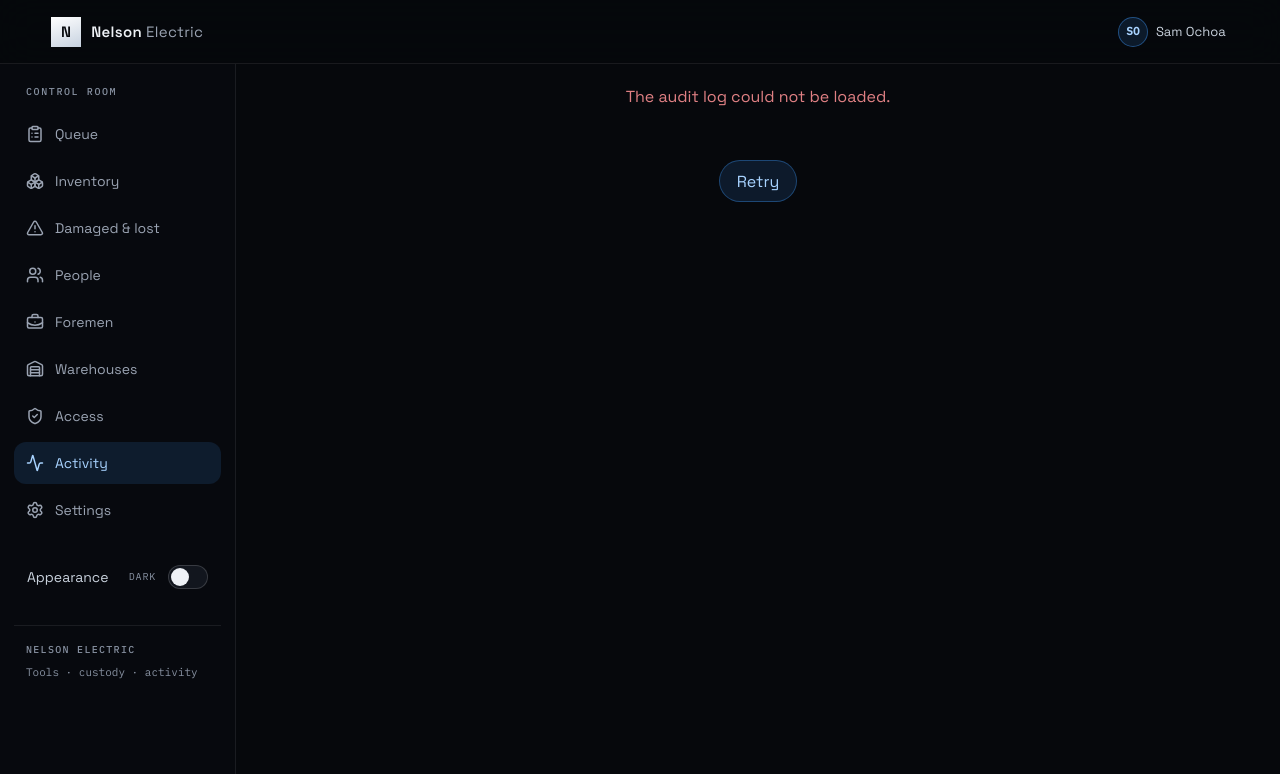
Test: admin activity surface › fails closed with retry when the audit query is unavailable
Expected: the message shows "audit log could not be loaded", [626,86,890,107]
Click the button "Retry". click: [758, 181]
box: [719,160,797,202]
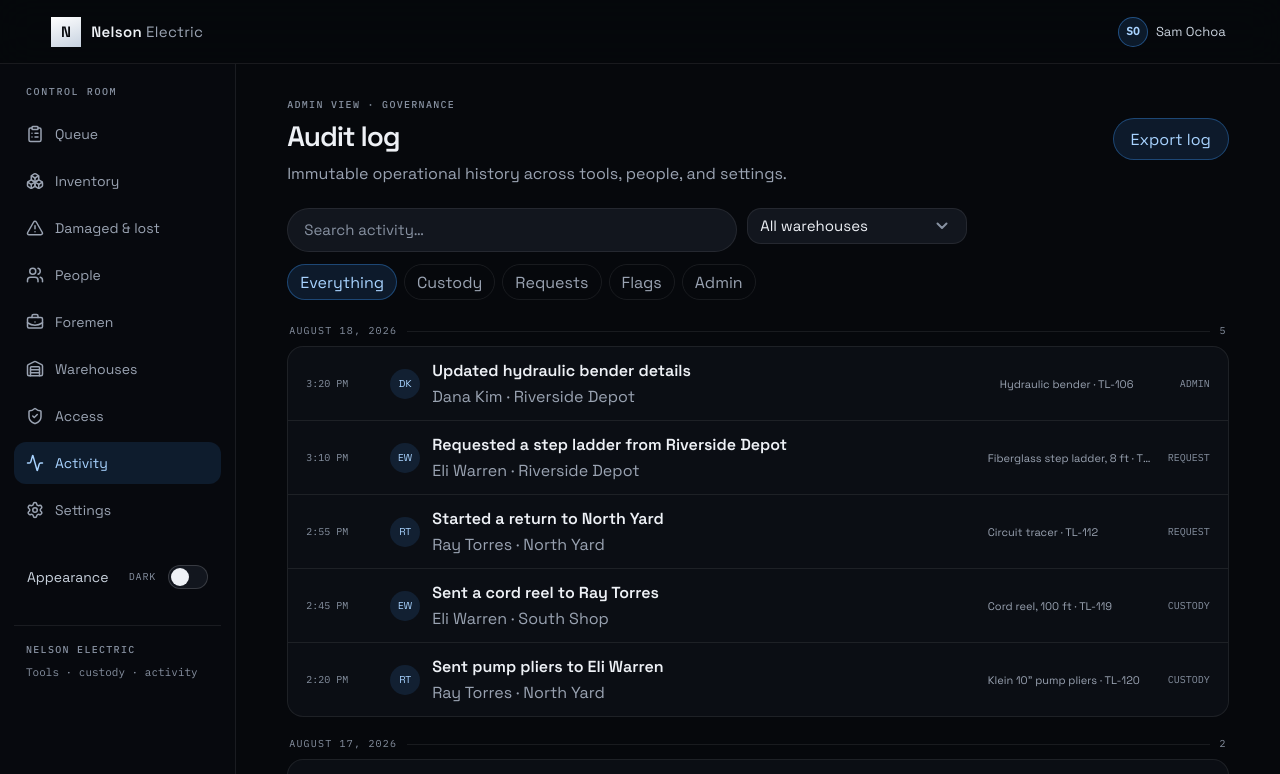
Expected: the heading "Audit log" is shown, [287,118,400,154]
